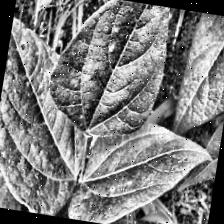Bean Rust: (0, 11, 106, 219), (41, 0, 177, 133), (70, 119, 201, 224), (169, 11, 224, 142)
